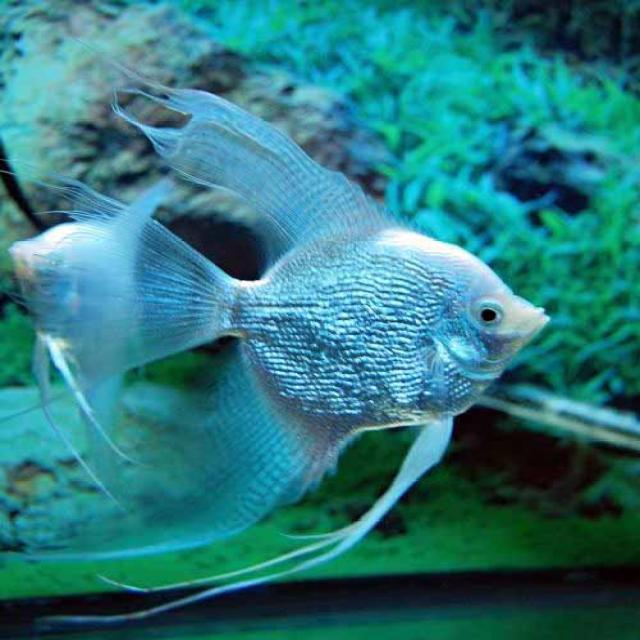AngelFish: (57, 89, 554, 558)
